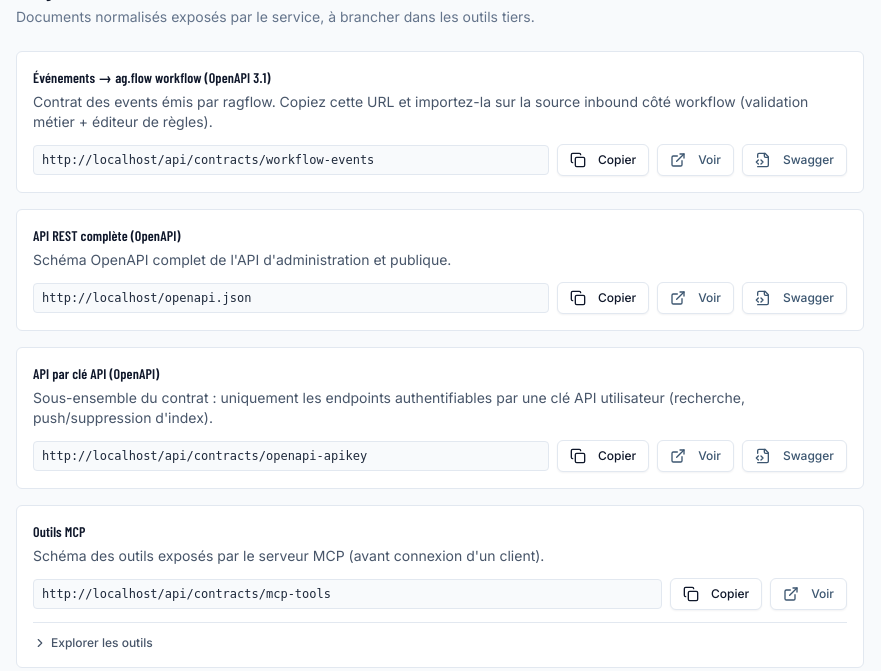
Scenario: IntegrationContractsPage › explore les outils MCP à l'ouverture (nom + paramètres)
The image size is (881, 671).
Click the button "Explorer les outils": [93, 643] box [33, 635, 153, 651]
(page scrolled)
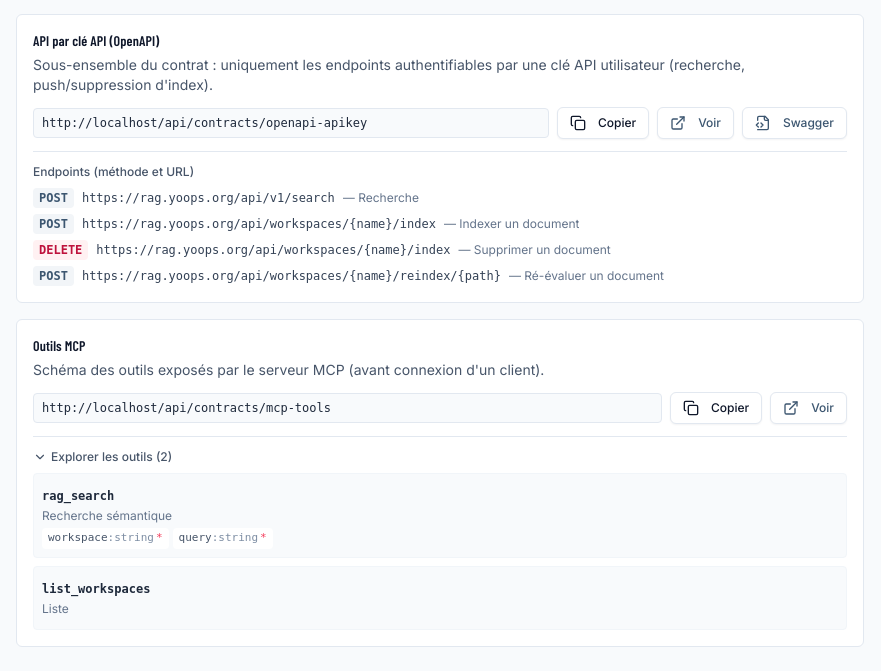
Expected: the text "rag_search" is shown, [42, 489, 114, 503]
Expected: the text "list_workspaces" is shown, [42, 582, 150, 596]
Expected: the text "workspace" is shown, [48, 531, 108, 544]
